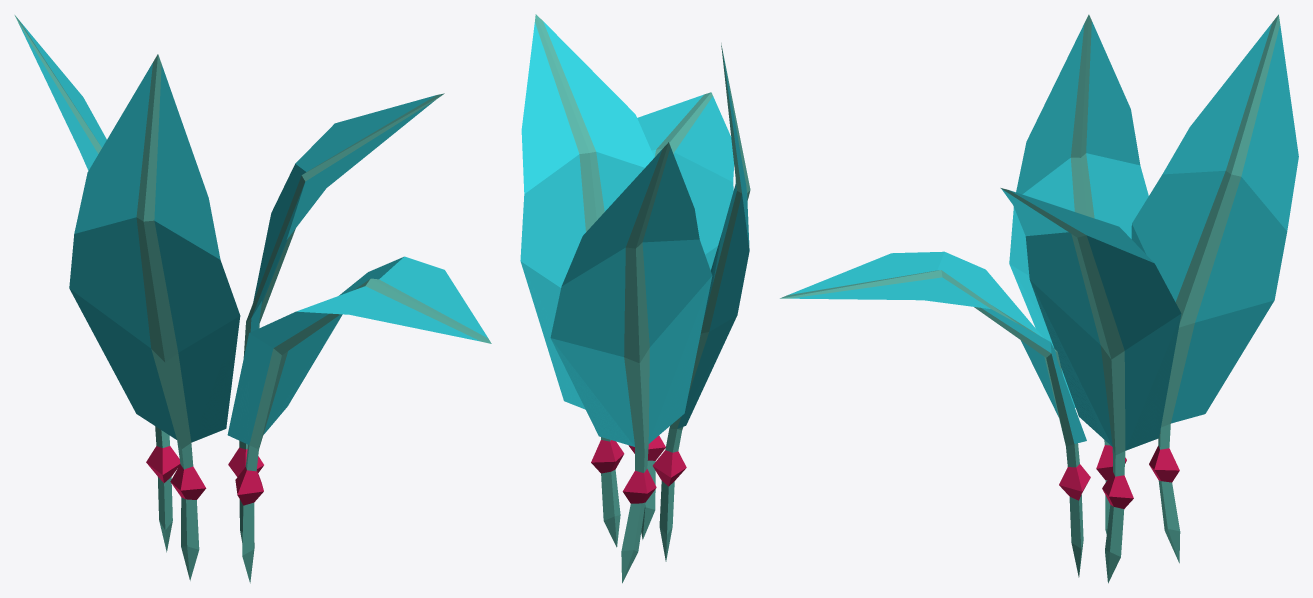
Rendered from Gras_04_Var_02.fbx.
3 renders of one model, left to right at view 1: azimuth 30°, elevation 25°; view 2: azimuth 150°, elevation 25°; view 3: azimuth 270°, elevation 25°, orthographic. The views are drawn at different scales.
Visible parts, largest first — view 1: Gras_04_Var_02; view 2: Gras_04_Var_02; view 3: Gras_04_Var_02.
Boxes of the visible parts, x1,y1,x2,y2 form: Gras_04_Var_02: (14, 15, 491, 583); Gras_04_Var_02: (520, 14, 750, 583); Gras_04_Var_02: (780, 14, 1298, 583).
Bounding box in the file's own units: 0.2297 × 0.2555 × 0.1452.
